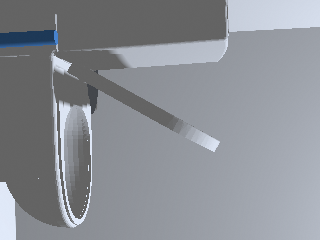lid_1: (64, 62, 219, 150)
